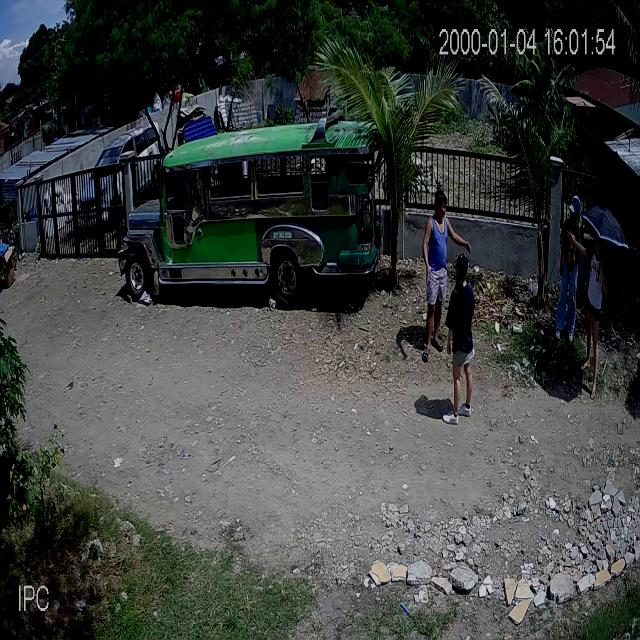standing: (420, 188, 465, 362), (441, 251, 474, 426), (554, 194, 586, 344)
walking: (580, 233, 608, 390)
